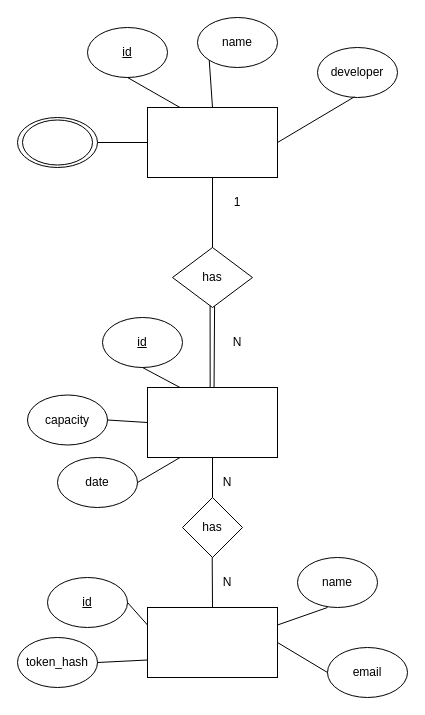
The diagram is 425 pixels wide and 715 high, and some of its shapes have lost their labels. The shapes that lost their labels are listed below. From the top down, each one's box as (x1, y1, x2, y2) in pixels, then its label:
(22, 119, 92, 165): genres
(146, 106, 278, 178): Games
(146, 386, 278, 458): Sessions
(146, 606, 278, 678): Players
